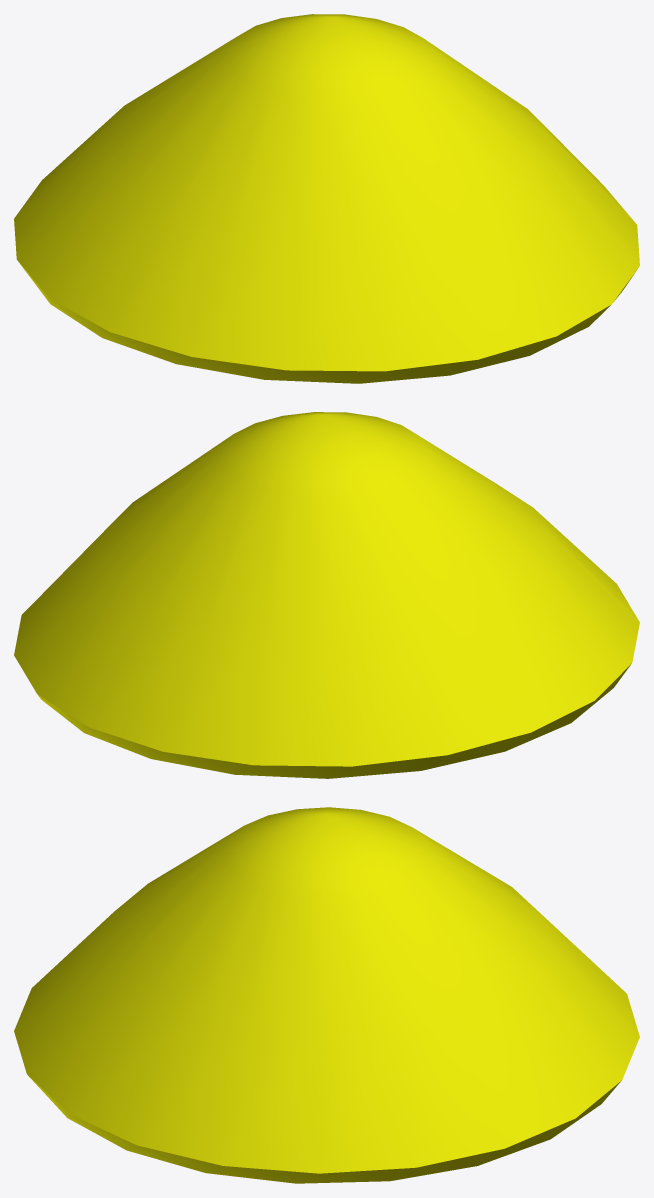
File: propeller_cover2.fbx
3 renders of one model, top to bottom at view 1: azimuth 30°, elevation 25°; view 2: azimuth 150°, elevation 25°; view 3: azimuth 270°, elevation 25°, orthographic.
Parts seen in each view (by area): view 1: polySurface19; view 2: polySurface19; view 3: polySurface19.
Boxes of the visible parts, x1=… form: polySurface19: x1=14, y1=14, x2=639, y2=383; polySurface19: x1=14, y1=412, x2=639, y2=778; polySurface19: x1=14, y1=807, x2=639, y2=1183.
Size of the model in its own units: 0.6036 by 0.2612 by 0.6038.
